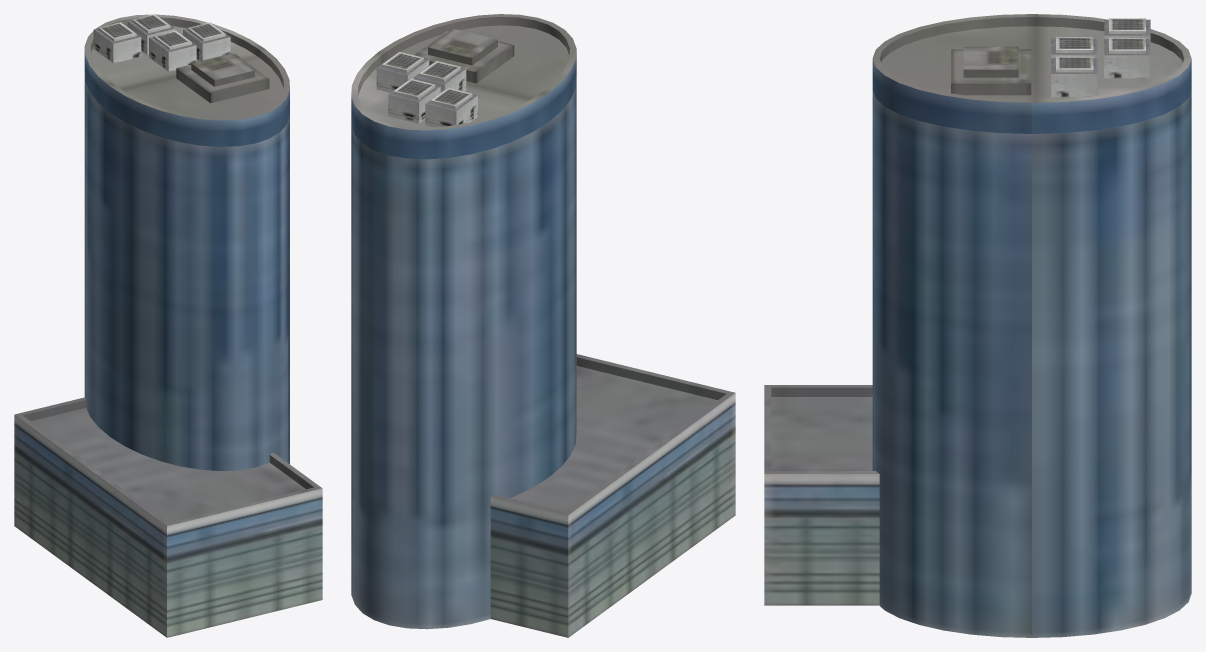
3 views of the same model, side by side, from view 1: azimuth 30°, elevation 25°; view 2: azimuth 150°, elevation 25°; view 3: azimuth 270°, elevation 25° (orthographic). The views are drawn at different scales.
Size of the model in its own units: 0.2357 by 0.4994 by 0.3504.
Materials: 1 (1 with a texture image).
